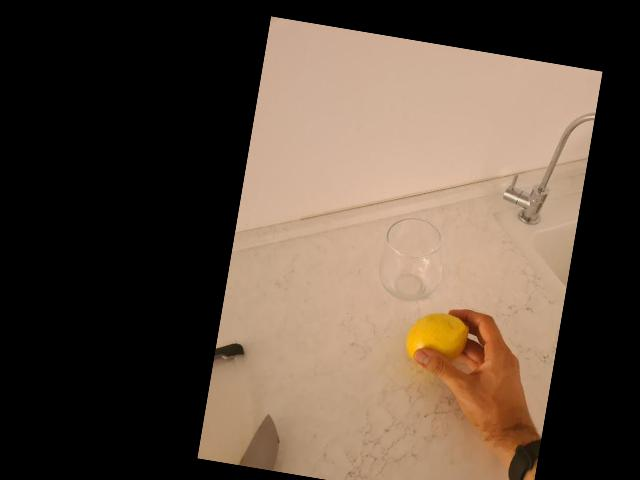lemon: (405, 310, 470, 367)
